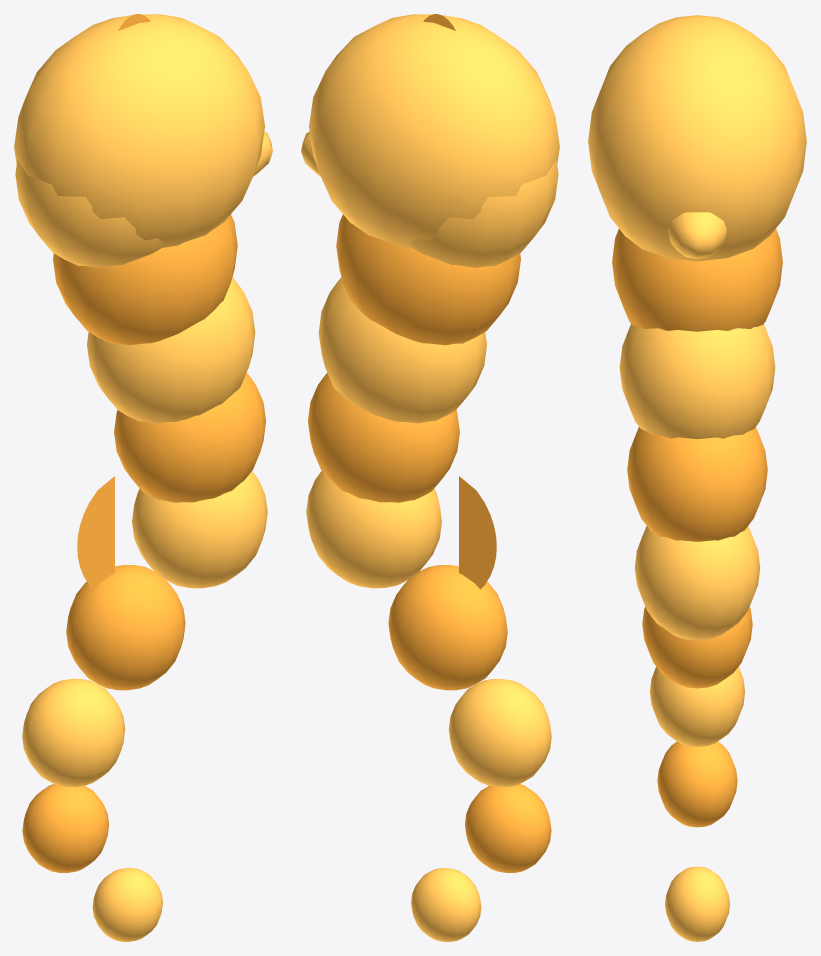
The model's file is seahorse.glb.
3 renders of one model, left to right at view 1: azimuth 30°, elevation 25°; view 2: azimuth 150°, elevation 25°; view 3: azimuth 270°, elevation 25°, orthographic.
Parts seen in each view (by area): view 1: seahorse; view 2: seahorse; view 3: seahorse.
Boxes of the visible parts, x1,y1,x2,y2 form: seahorse: [14, 14, 272, 941]; seahorse: [301, 14, 559, 941]; seahorse: [588, 15, 806, 941].
Size of the model in its own units: 0.52 by 1.87 by 0.4.
